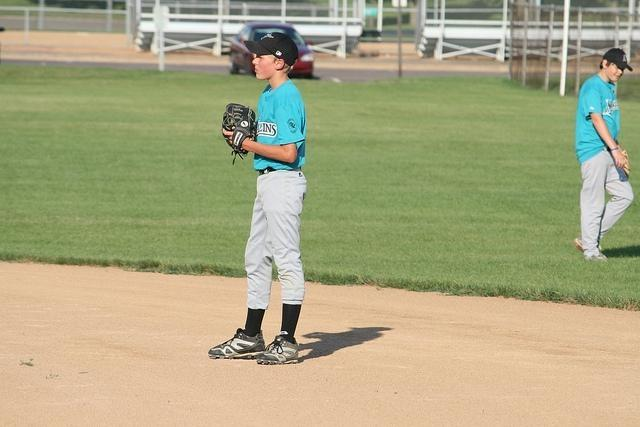car: (227, 25, 318, 76)
